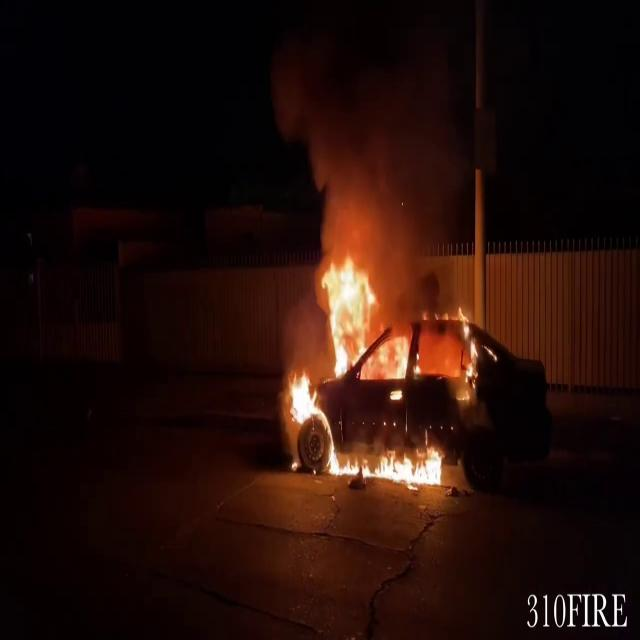Fire: (281, 243, 395, 477), (360, 439, 450, 492)
Smoke: (266, 10, 476, 258)
